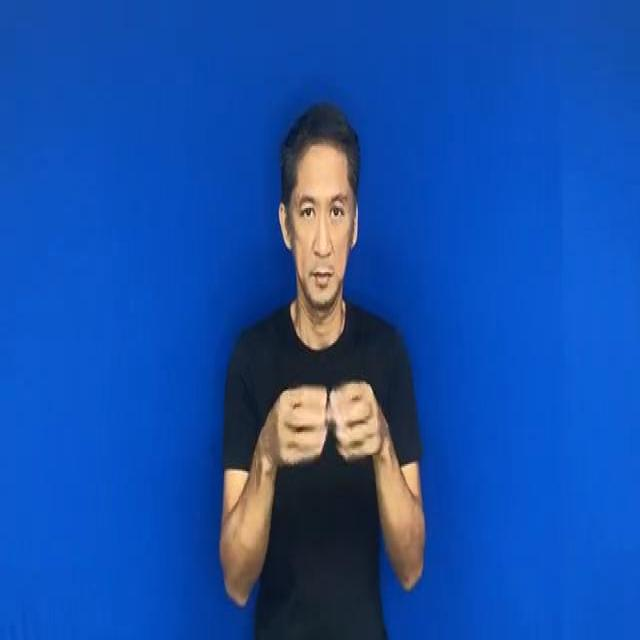egg: (248, 360, 397, 486)
